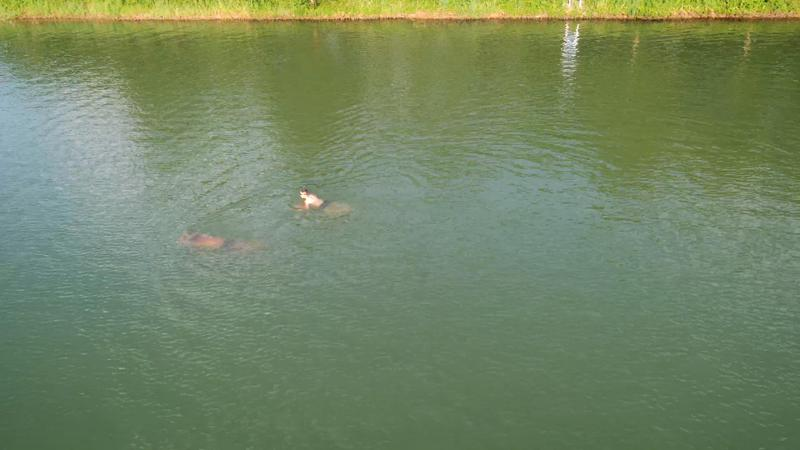swimmers: (177, 227, 260, 254), (291, 187, 356, 218)
